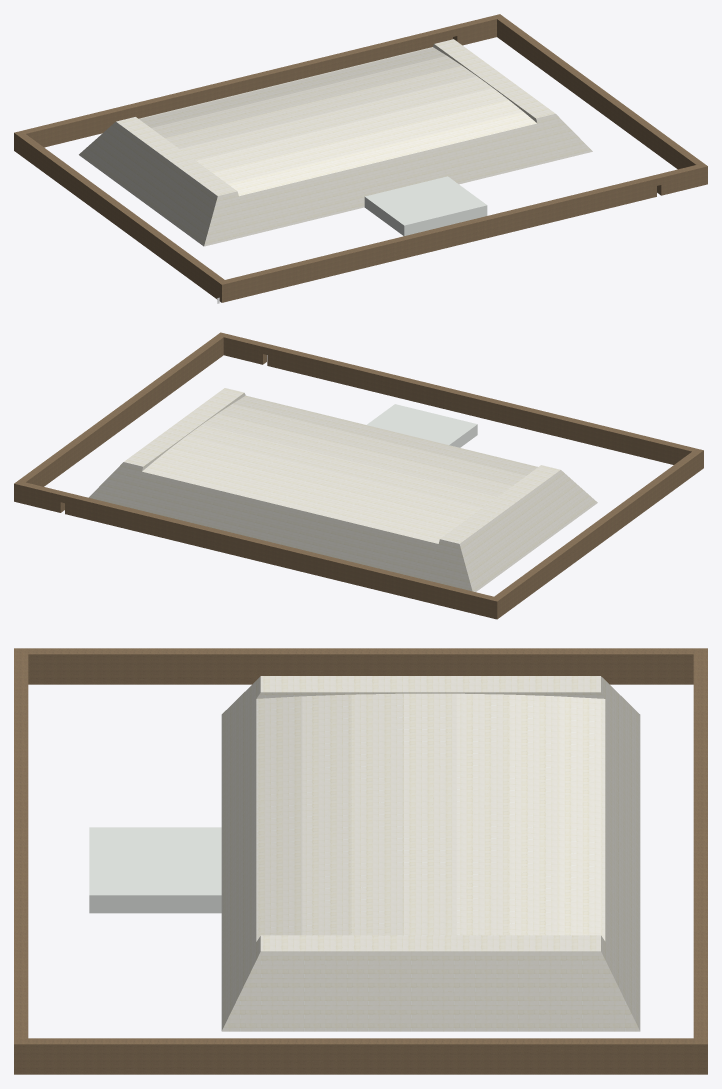
Rendered from Hetepsekhemwy_v2.glb.
The picture shows the model from 3 angles, top to bottom: view 1: azimuth 30°, elevation 25°; view 2: azimuth 150°, elevation 25°; view 3: azimuth 270°, elevation 25°; orthographic projection. The views are drawn at different scales.
Visible parts, largest first — view 1: Mesh1 Component_1_1 Model, Mesh2 Model, Mesh3 Model; view 2: Mesh1 Component_1_1 Model, Mesh2 Model, Mesh3 Model; view 3: Mesh1 Component_1_1 Model, Mesh2 Model, Mesh3 Model.
Boxes of the visible parts, <box> form: Mesh1 Component_1_1 Model: <box>79,39,592,246</box>; Mesh2 Model: <box>14,14,707,302</box>; Mesh3 Model: <box>364,176,487,235</box>; Mesh1 Component_1_1 Model: <box>89,388,597,591</box>; Mesh2 Model: <box>14,332,703,619</box>; Mesh3 Model: <box>367,404,477,447</box>; Mesh1 Component_1_1 Model: <box>221,676,640,1031</box>; Mesh2 Model: <box>14,648,707,1074</box>; Mesh3 Model: <box>89,827,221,913</box>.
Bounding box in the file's own units: 142 × 9.82 × 104.
5 materials, 4 textured.
